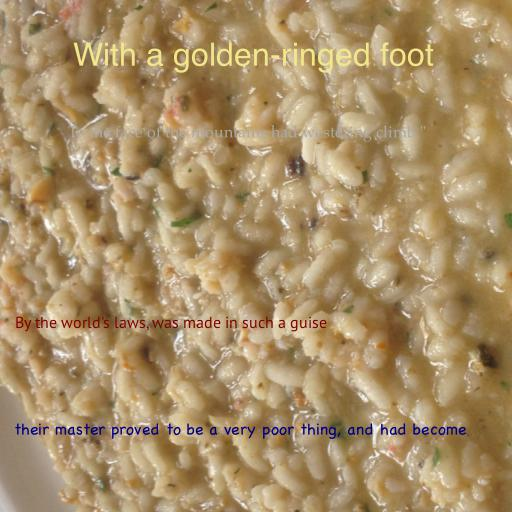Chalkboard: (13, 423, 467, 440)
Helvetica: (72, 42, 434, 73)
PT Sans: (15, 316, 327, 332)
Palatino: (68, 124, 426, 142)
